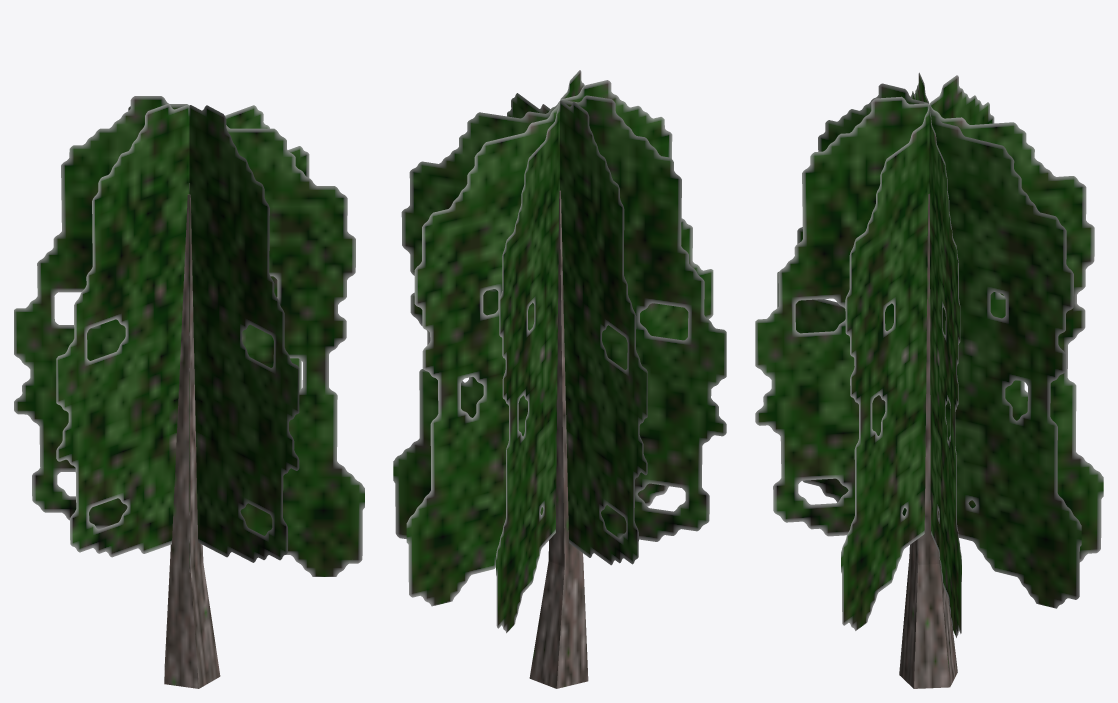
The model's file is Green Tree 2.fbx.
3 renders of one model, left to right at view 1: azimuth 30°, elevation 25°; view 2: azimuth 150°, elevation 25°; view 3: azimuth 270°, elevation 25°, orthographic.
Parts seen in each view (by area): view 1: Plane, Trunk; view 2: Plane, Trunk; view 3: Plane, Trunk.
Part boxes in pixels (<box>): Plane: <box>14,96,364,576</box>; Trunk: <box>164,194,220,688</box>; Plane: <box>393,70,726,633</box>; Trunk: <box>529,190,588,688</box>; Plane: <box>755,72,1103,637</box>; Trunk: <box>899,194,957,688</box>.
Bounding box in the file's own units: 997 × 1878 × 1003.
